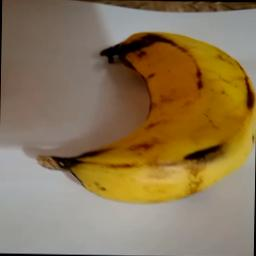Banana Unripe: (35, 26, 256, 204)
